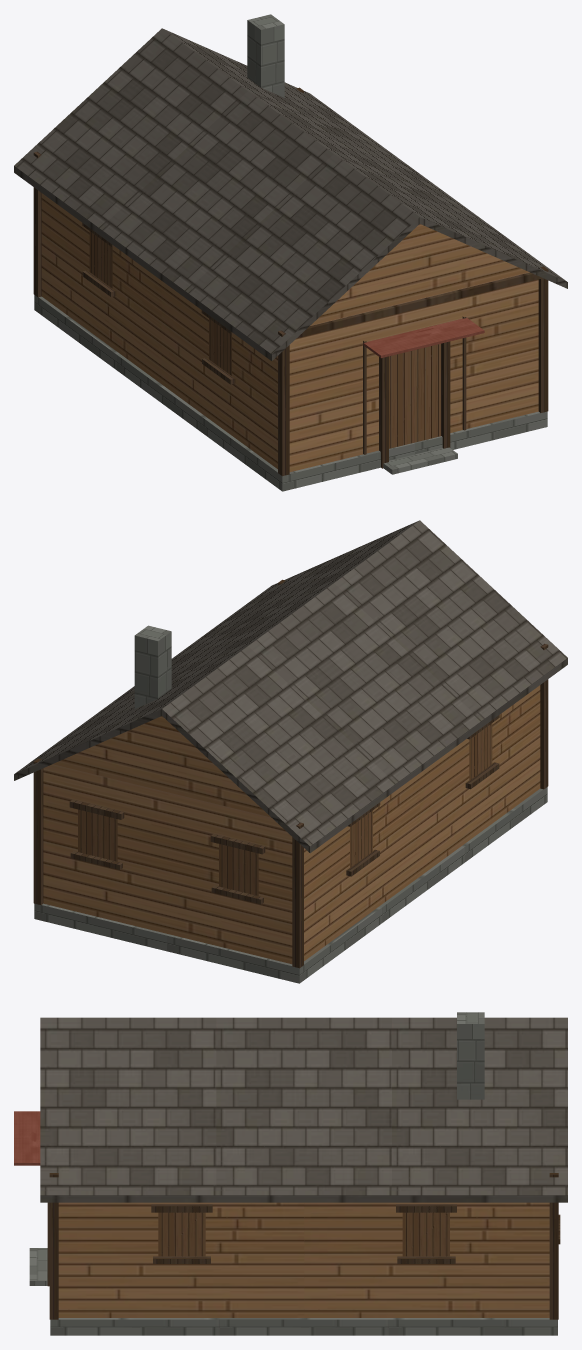
The model's file is ae_sand_wood_large_hall_lod0.glb.
3 renders of one model, top to bottom at view 1: azimuth 30°, elevation 25°; view 2: azimuth 150°, elevation 25°; view 3: azimuth 270°, elevation 25°, orthographic. The views are drawn at different scales.
Parts seen in each view (by area): view 1: ae_sand_wood_large_hall_lod0; view 2: ae_sand_wood_large_hall_lod0; view 3: ae_sand_wood_large_hall_lod0.
Part boxes in pixels (<box>): ae_sand_wood_large_hall_lod0: <box>14,14,567,491</box>; ae_sand_wood_large_hall_lod0: <box>14,520,567,983</box>; ae_sand_wood_large_hall_lod0: <box>14,1012,567,1335</box>.
Size of the model in its own units: 6.3 by 5.55 by 9.97.
Materials: 1 (1 with a texture image).
